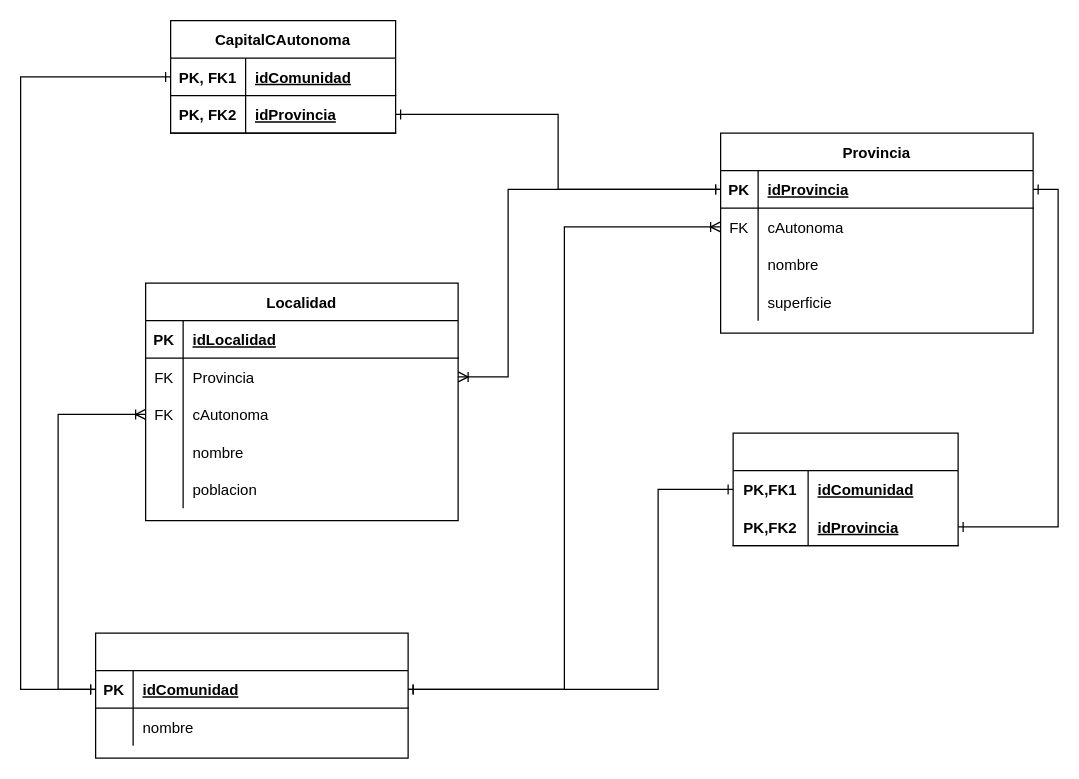
The diagram is 1079 pixels wide and 779 high, and some of its shapes have lost their labels. Here are the shapes that lost their labels. From the top down, the box of each, then its label:
(732, 432, 958, 546): CapitalProvincia
(94, 632, 408, 758): ComunidadAutonoma
